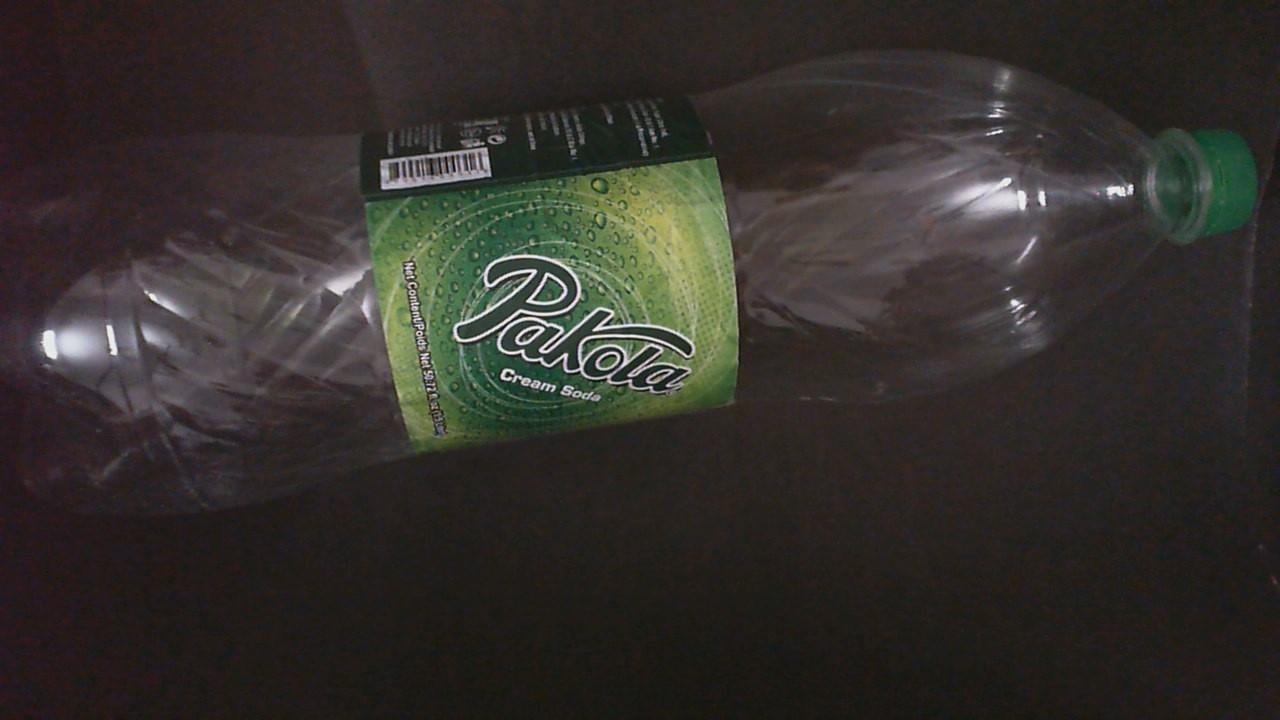Bottle: (0, 51, 1258, 513), (3, 51, 1260, 512), (0, 716, 203, 719)
